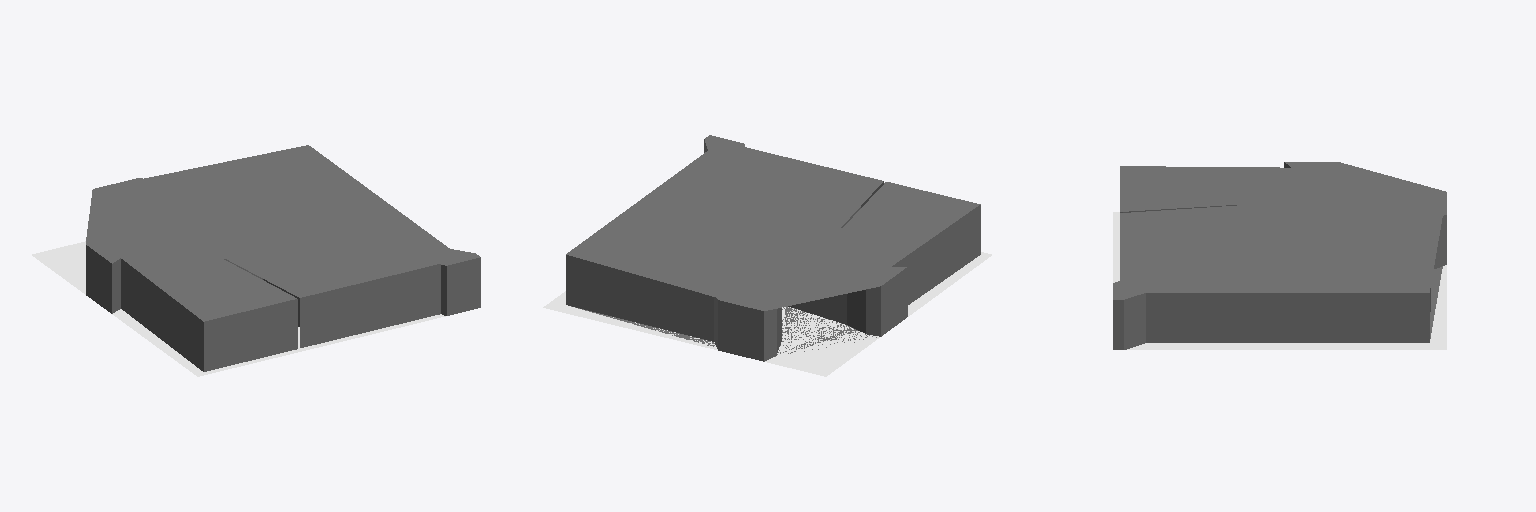
The model's file is 56020f70-dece-4785-a60f-1d522c99c77c.obj.
3 renders of one model, left to right at view 1: azimuth 30°, elevation 25°; view 2: azimuth 150°, elevation 25°; view 3: azimuth 270°, elevation 25°, orthographic.
Visible parts, largest first — view 1: VertWalls1, Box0Wall19, Box0Wall13, Box0Wall12, Floor, Box0Wall21, Box0Wall10; view 2: VertWalls1, Box0Wall25, Floor, Box0Wall12, Box0Wall27, Box0Wall10, VertWalls0, Box0Wall7, Box0Wall8, Box0Wall9, Box0Wall0; view 3: VertWalls1, Box0Wall24, Floor, Box0Wall23, Box0Wall22.
Part boxes in pixels (left/top/right/bottom): VertWalls1: left=86, top=145, right=479, bottom=321; Box0Wall19: left=300, top=264, right=440, bottom=347; Box0Wall13: left=204, top=299, right=297, bottom=371; Box0Wall12: left=121, top=259, right=203, bottom=371; Floor: left=32, top=241, right=445, bottom=376; Box0Wall21: left=447, top=257, right=480, bottom=315; Box0Wall10: left=86, top=245, right=111, bottom=313; VertWalls1: left=566, top=135, right=980, bottom=310; Box0Wall25: left=566, top=255, right=713, bottom=341; Floor: left=543, top=252, right=991, bottom=376; Box0Wall12: left=892, top=205, right=980, bottom=304; Box0Wall27: left=718, top=300, right=763, bottom=361; Box0Wall10: left=881, top=267, right=907, bottom=336; VertWalls0: left=571, top=306, right=876, bottom=356; Box0Wall7: left=788, top=294, right=846, bottom=324; Box0Wall8: left=847, top=290, right=865, bottom=333; Box0Wall9: left=866, top=286, right=880, bottom=336; Box0Wall0: left=764, top=309, right=776, bottom=361; VertWalls1: left=1113, top=162, right=1446, bottom=299; Box0Wall24: left=1146, top=293, right=1429, bottom=342; Floor: left=1113, top=212, right=1446, bottom=349; Box0Wall23: left=1124, top=293, right=1145, bottom=349; Box0Wall22: left=1113, top=300, right=1123, bottom=349.
Bounding box in the file's own units: 14.69 × 2.5 × 14.99.